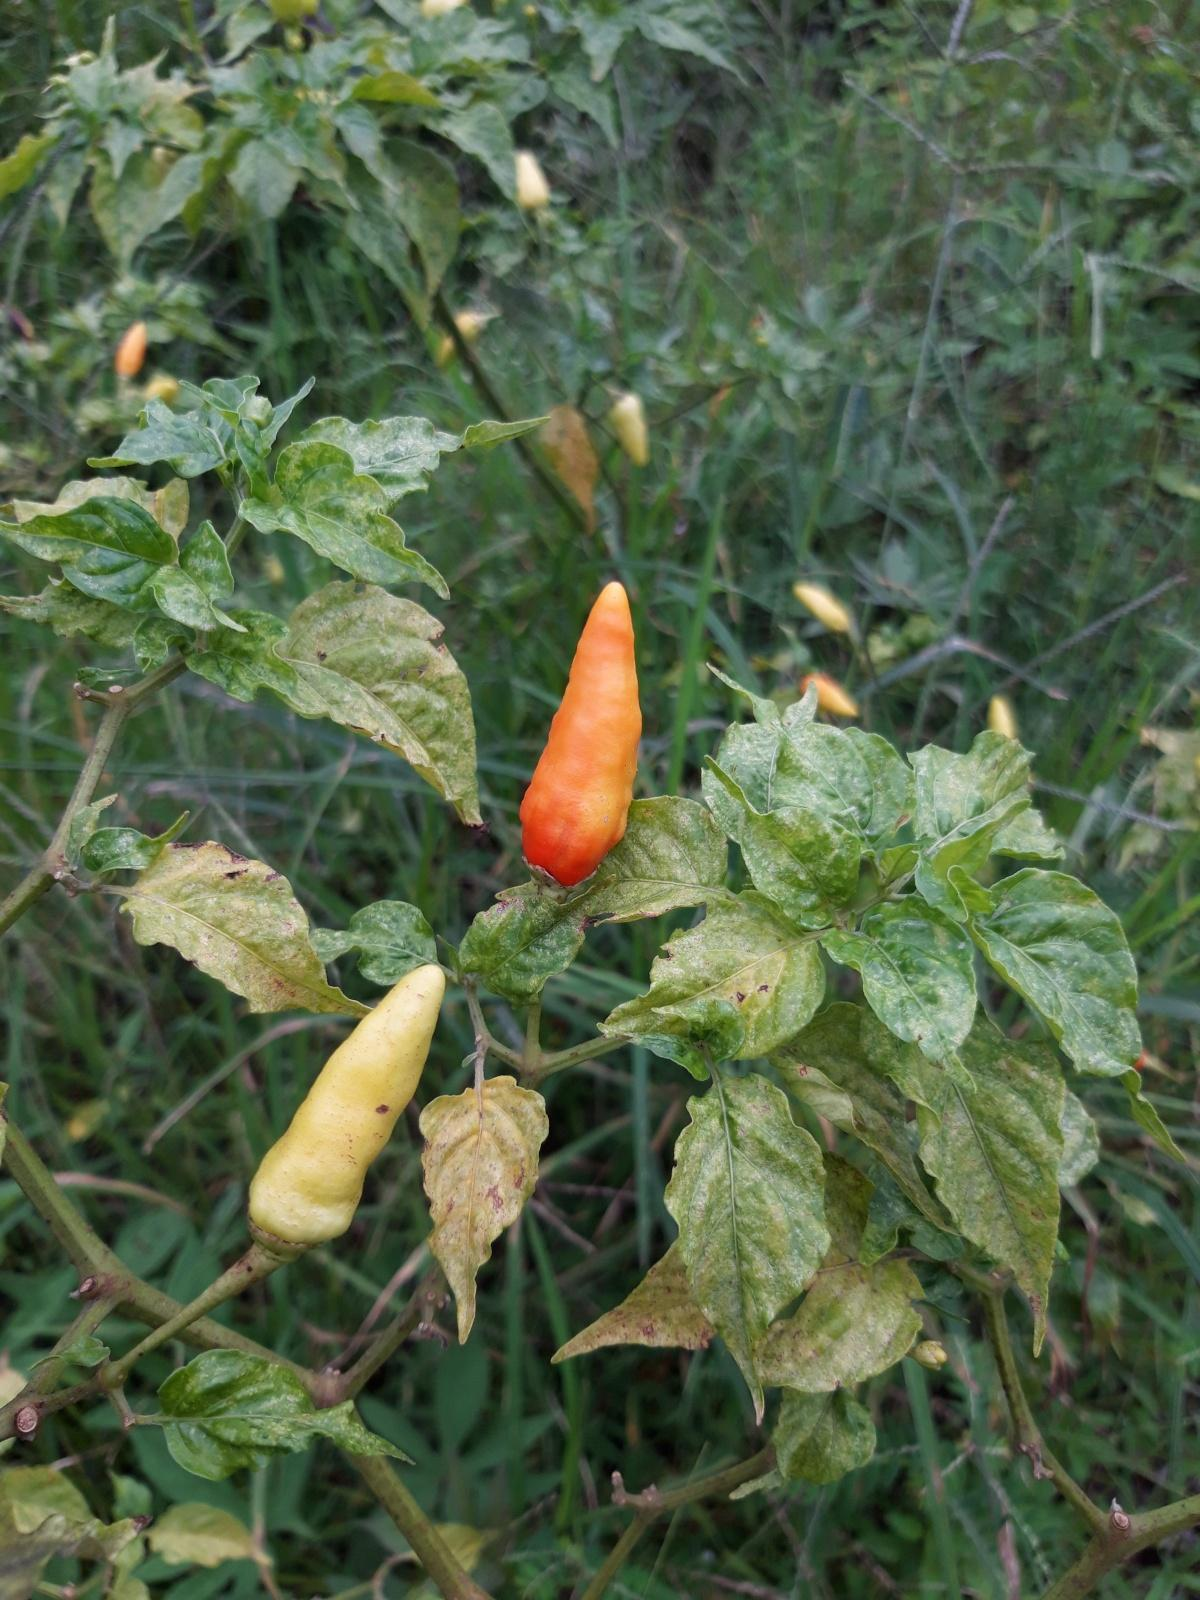cabai_normal: (250, 963, 447, 1236), (519, 582, 643, 882), (608, 397, 648, 467), (794, 582, 850, 631), (803, 674, 856, 718), (516, 152, 548, 207), (116, 325, 147, 373)
